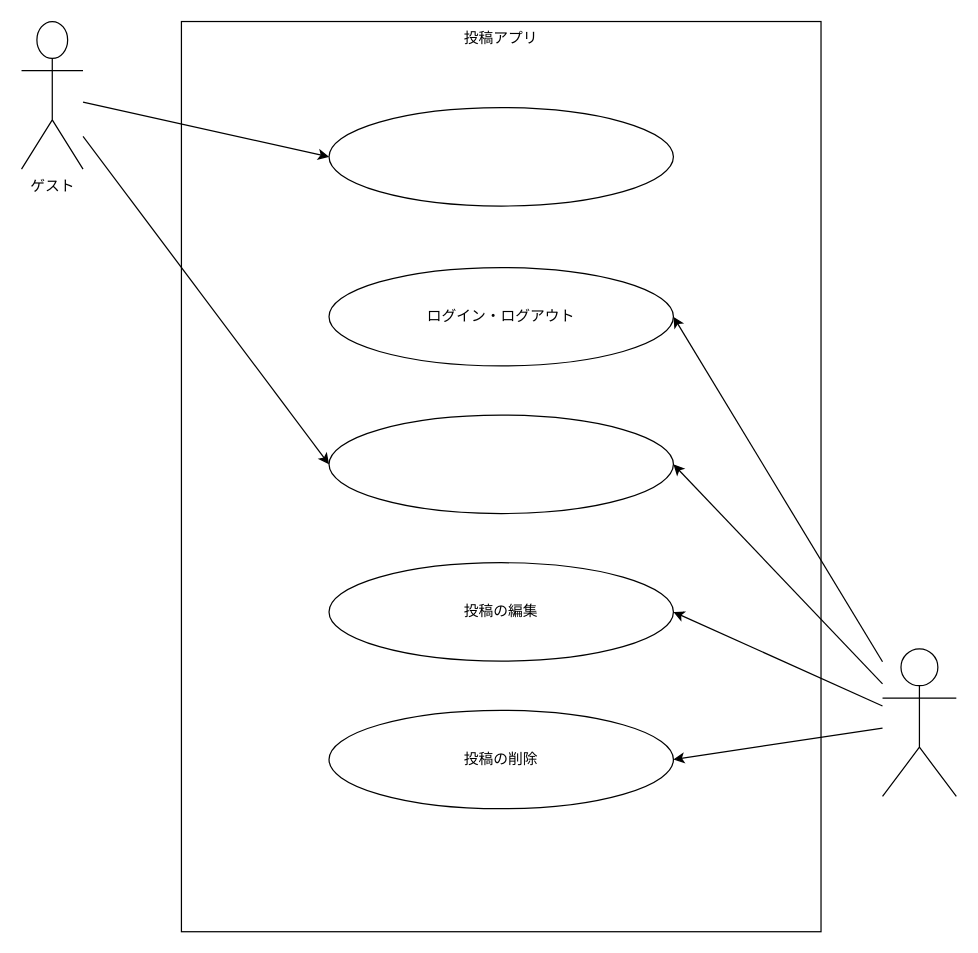
The diagram is 978 pixels wide and 953 high, and some of its shapes have lost their labels. The centre of each missing label's shape, as x and y in pixels:
"一覧表示" belongs at [500,464].
"登録" belongs at [500,156].
"登録者" belongs at [918,722].
